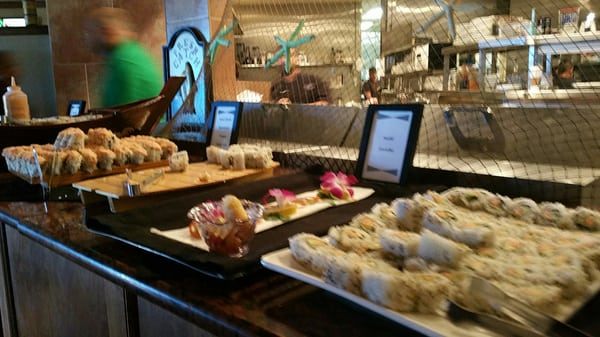sushi: (189, 195, 256, 257)
